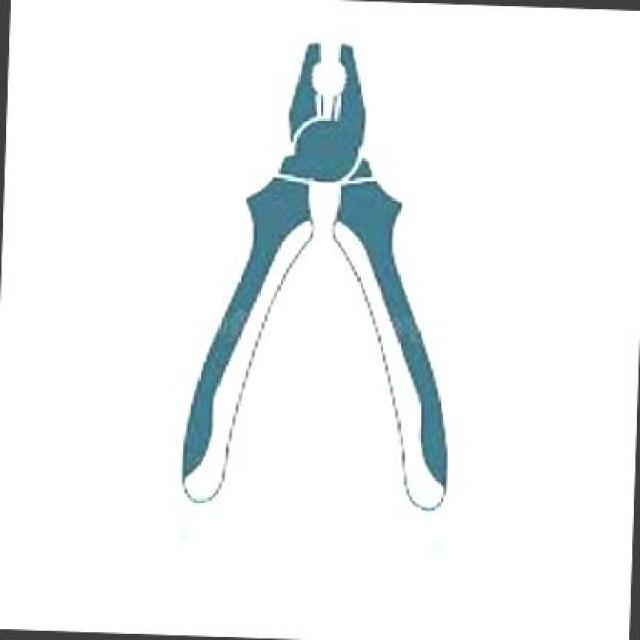pliers: (109, 26, 502, 523)
